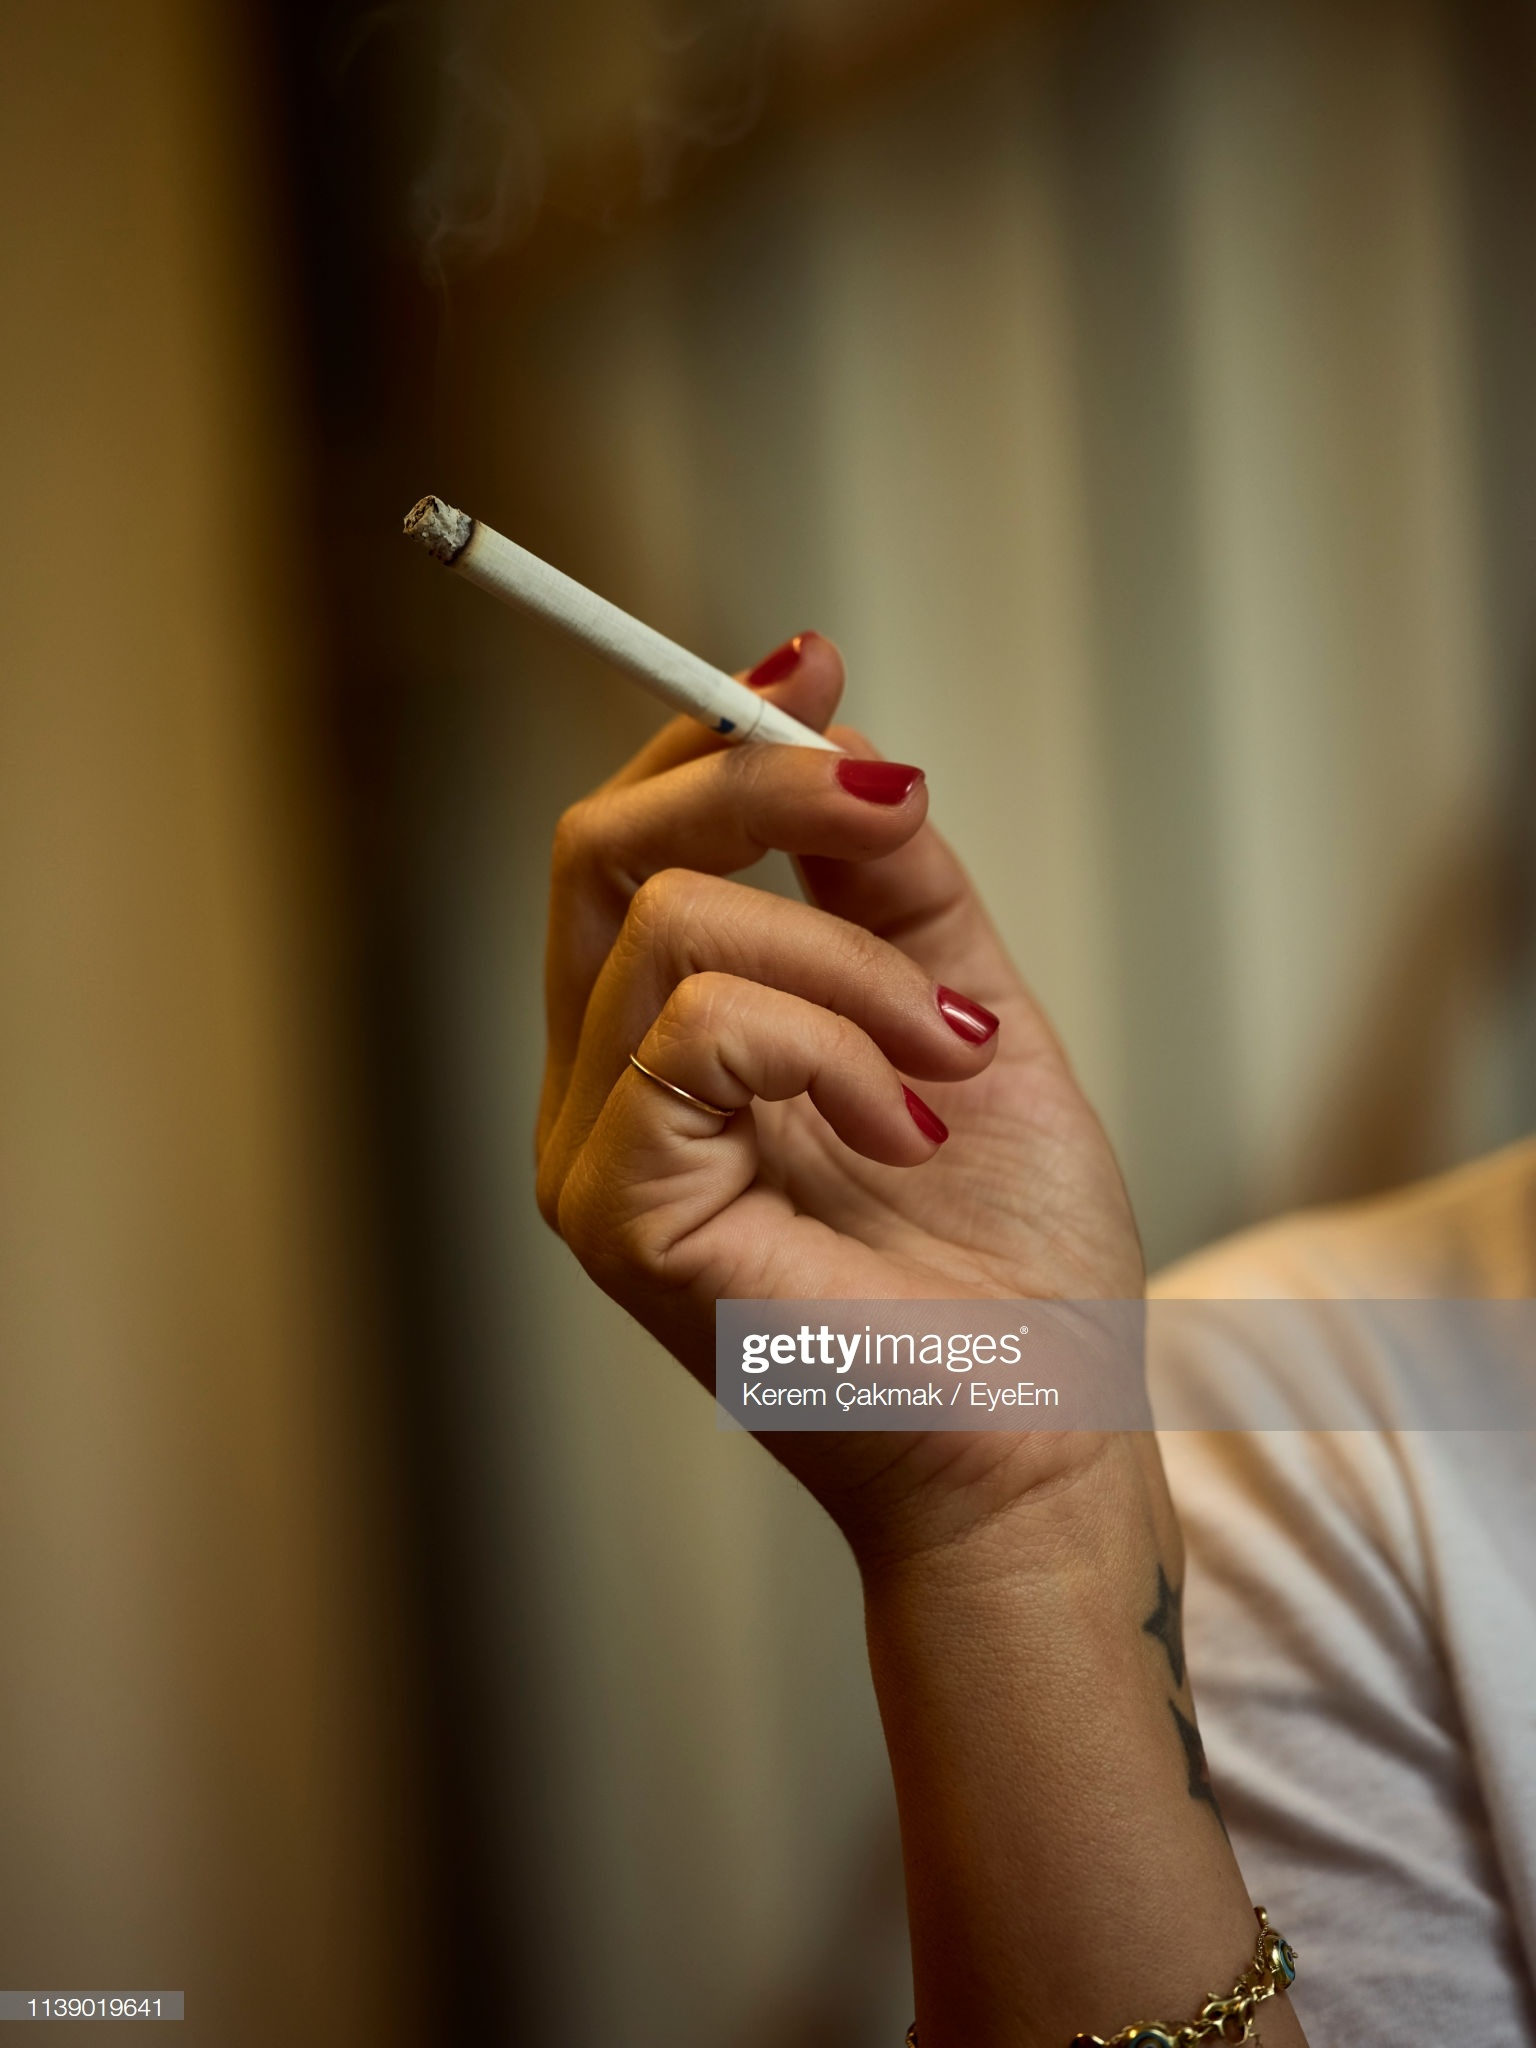sigaretta: (390, 489, 929, 829)
